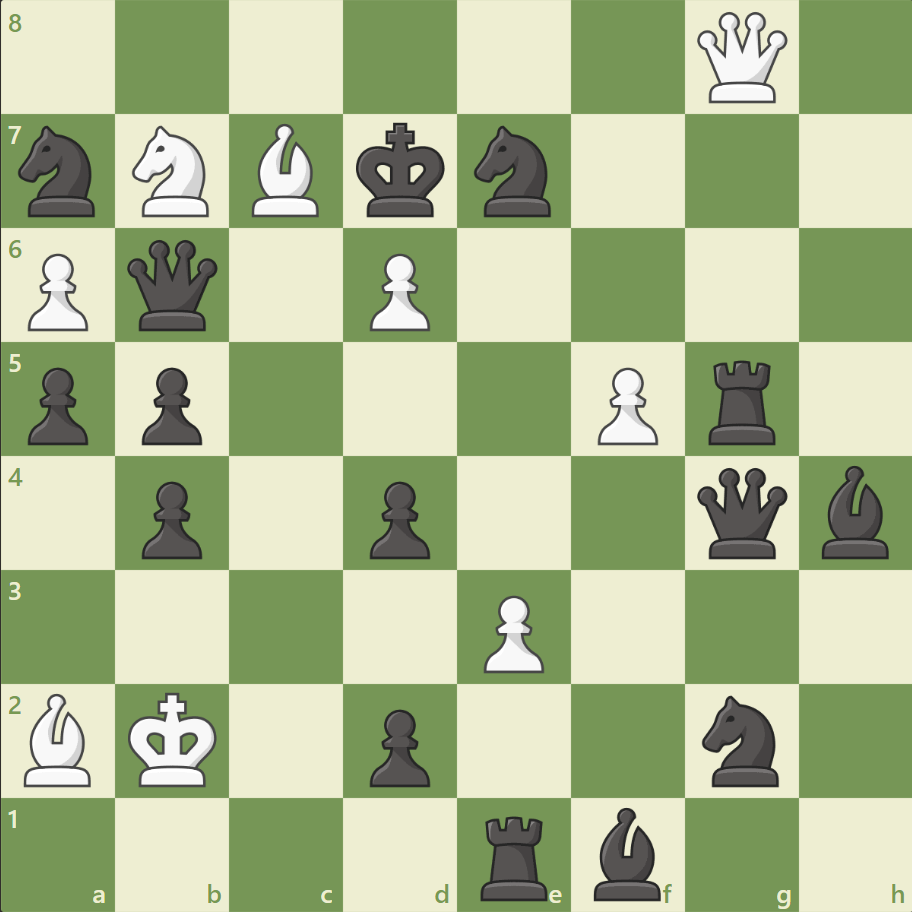B: (17, 687, 101, 790), (244, 120, 328, 222)
K: (124, 685, 224, 793)
N: (124, 121, 222, 223)
P: (20, 246, 95, 337), (474, 586, 549, 677), (361, 246, 435, 337), (588, 359, 662, 450)
Q: (691, 9, 790, 108)
b: (812, 460, 896, 563), (585, 801, 669, 904)
k: (351, 117, 451, 225)
n: (692, 688, 789, 791), (11, 121, 108, 223), (465, 121, 562, 223)
p: (20, 359, 95, 450), (133, 359, 208, 450), (133, 473, 208, 564), (361, 473, 435, 564), (361, 700, 435, 791)
q: (124, 236, 223, 335), (691, 463, 790, 562)
r: (473, 806, 556, 904), (700, 352, 783, 449)
